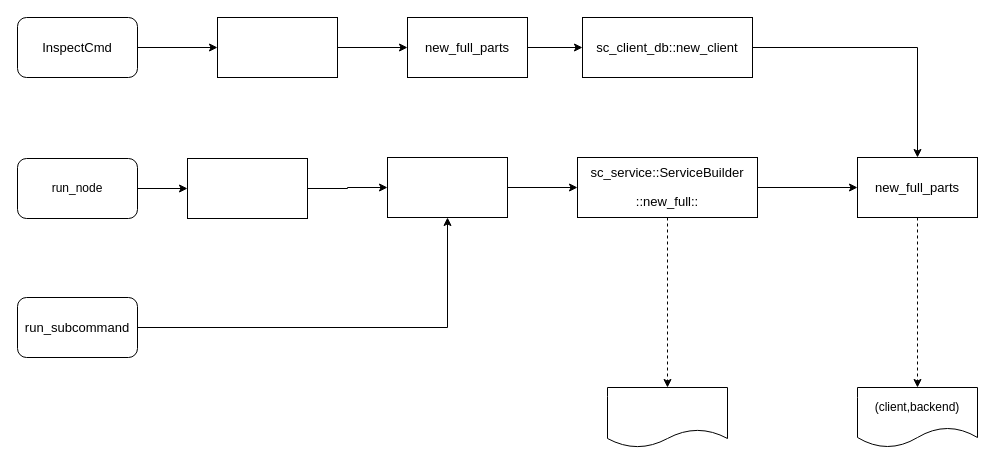
Some shapes in this 995 by 465 pixel diagram are drawn without their labels. Here are the shapes that lost their labels. From the top down, the box of each, then its label:
(216, 16, 338, 78): new_full_client
(186, 158, 308, 218): service::new_full
(386, 156, 508, 218): new_full_start!
(606, 386, 728, 448): service_builder
